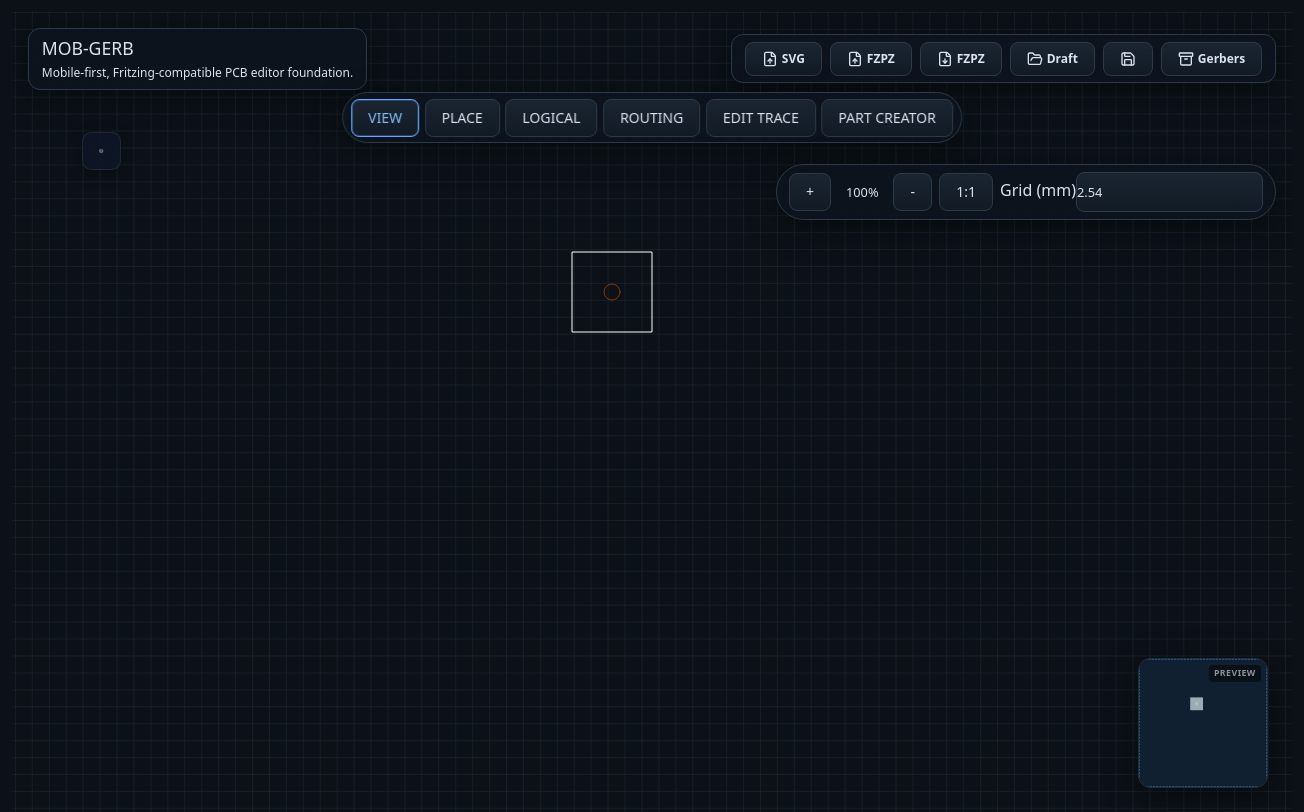
Test: App integration › zooms and resets the workspace through explicit controls
Click the button "+" at [810, 192], box [789,173,831,211]
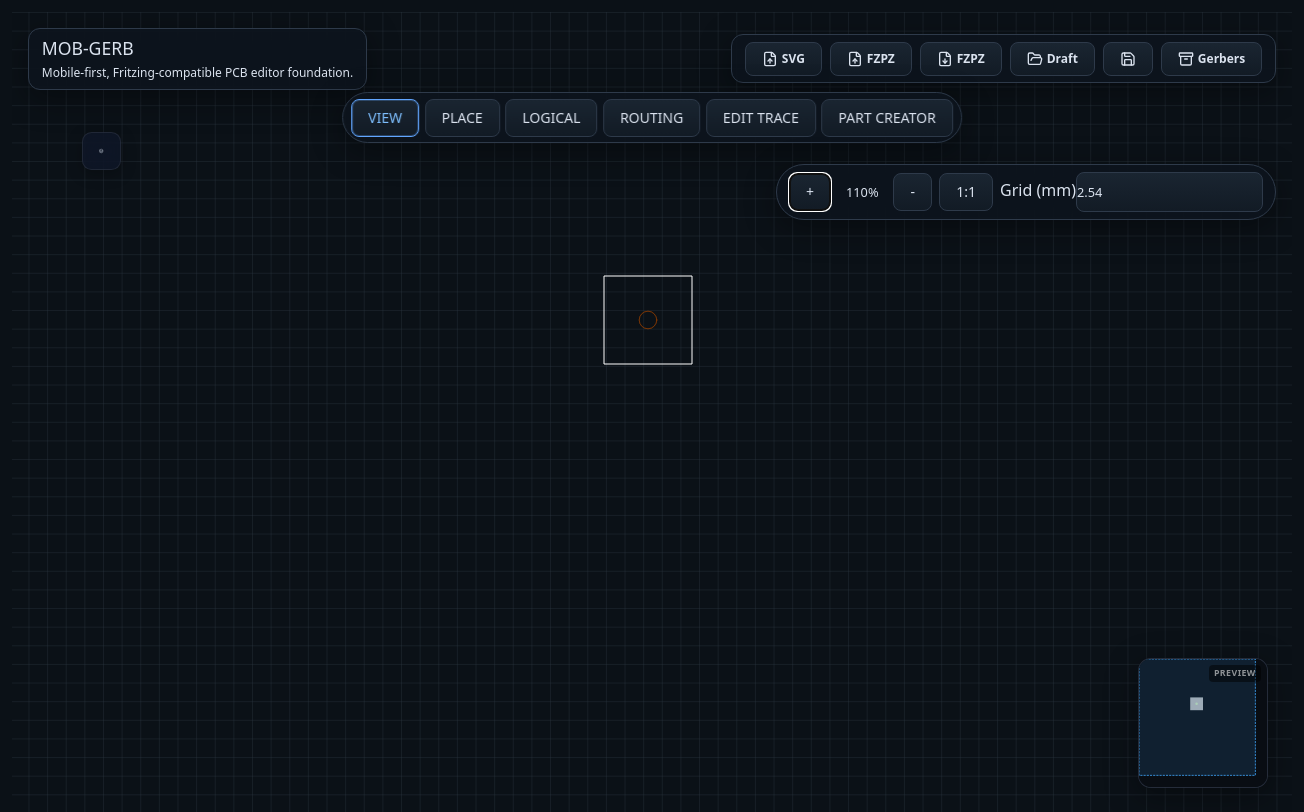
Expected: the text "110%" is shown, [846,183,878,201]
Click the button "-" at [913, 192], box [893,173,932,211]
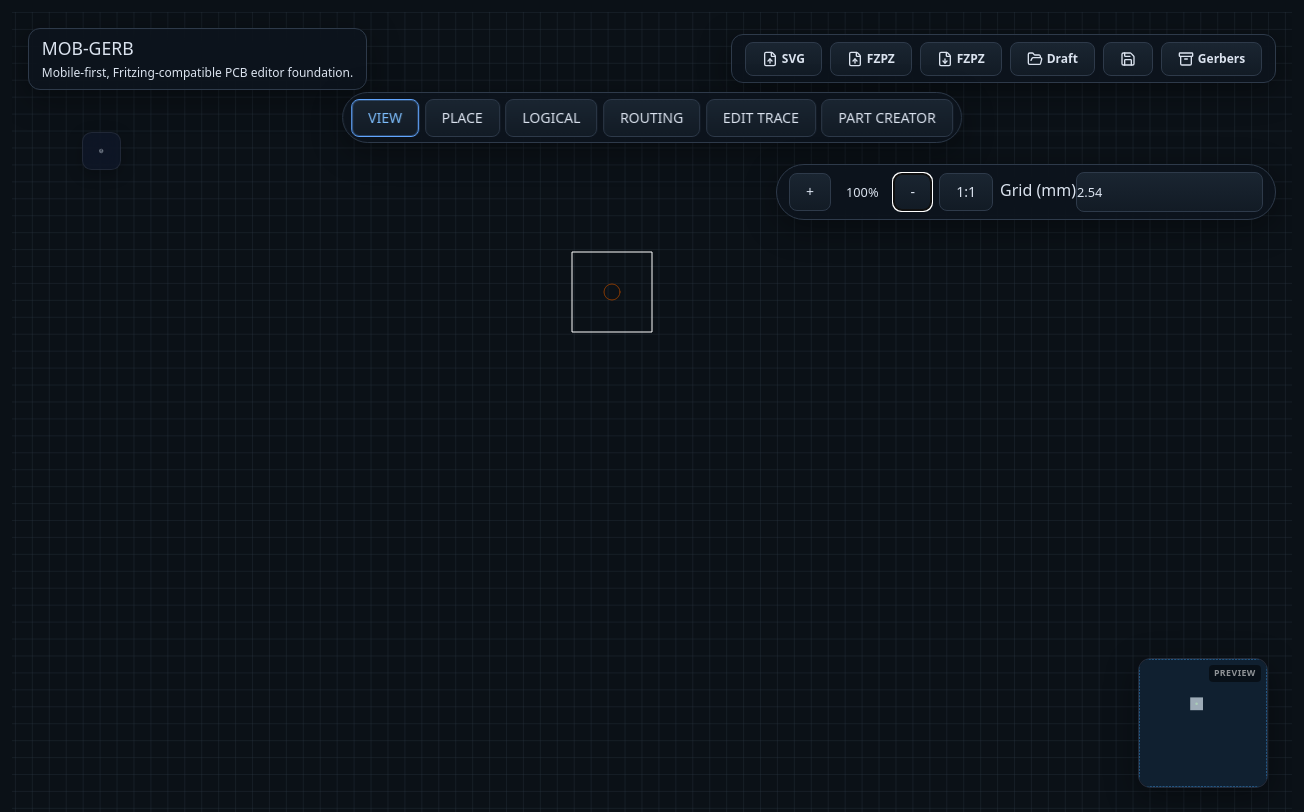
Expected: the text "100%" is shown, [846,183,878,201]
Click the button "+" at [810, 192], box [789,173,831,211]
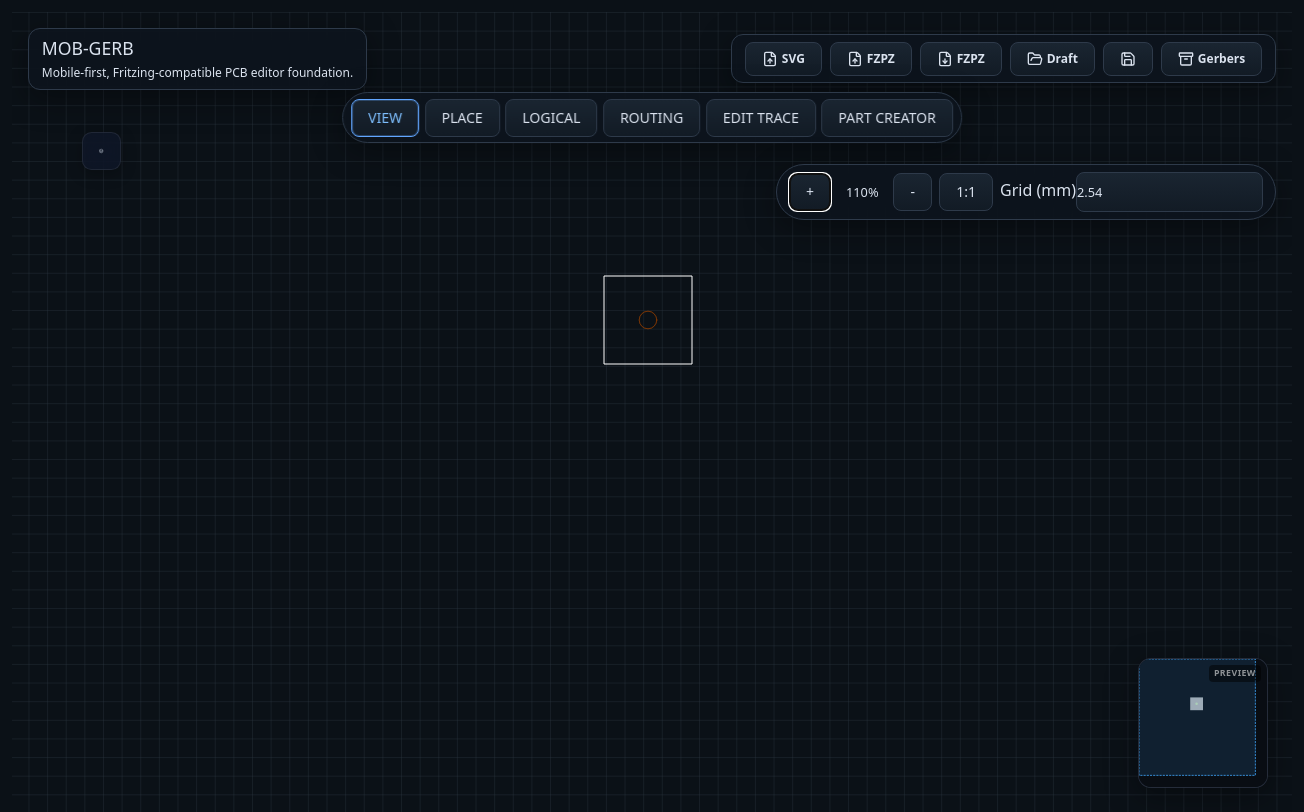
Click the button "1:1" at [966, 192], box [939,173,993,211]
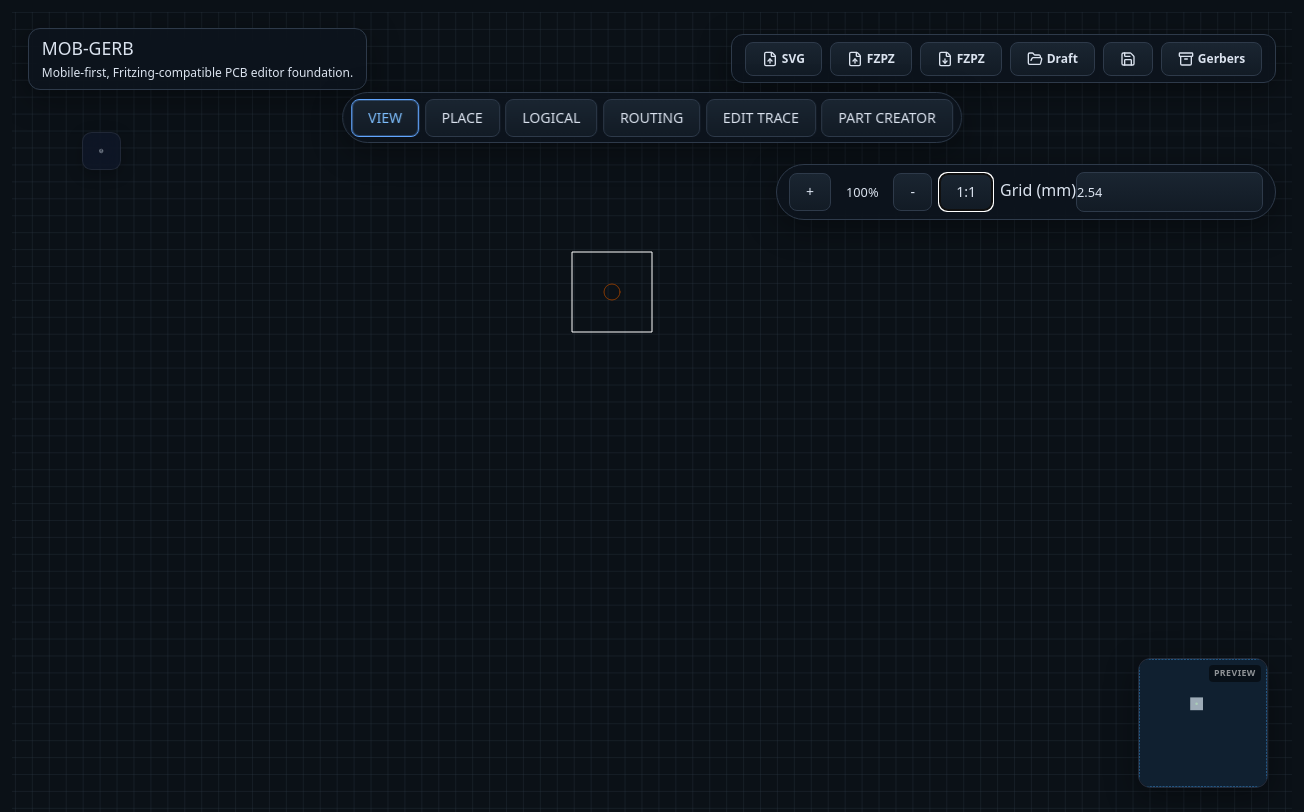
Expected: the text "100%" is shown, [846,183,878,201]
